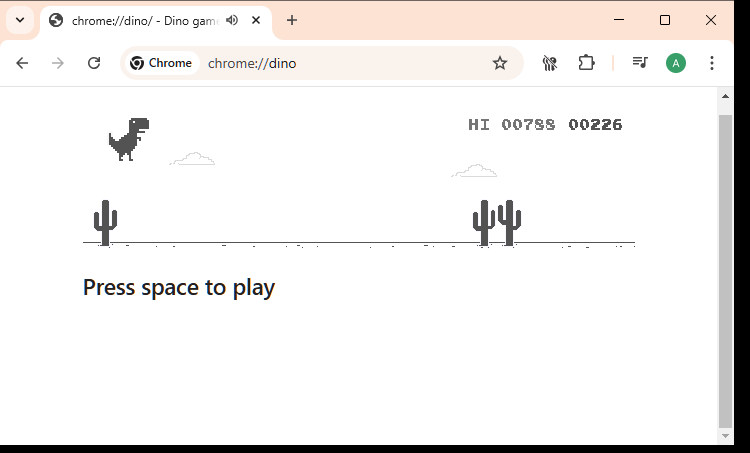cactus: (497, 199, 523, 247), (93, 199, 118, 248), (472, 199, 496, 247)
dino: (108, 117, 150, 162)
